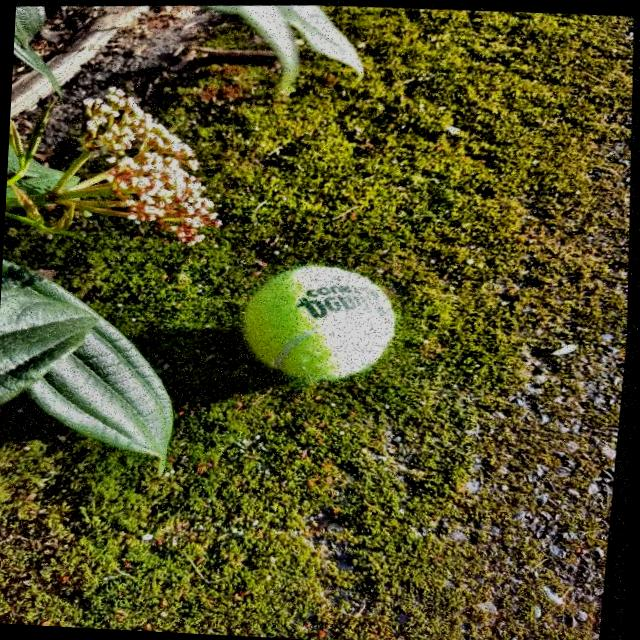Tennis Ball: (228, 252, 416, 396)
